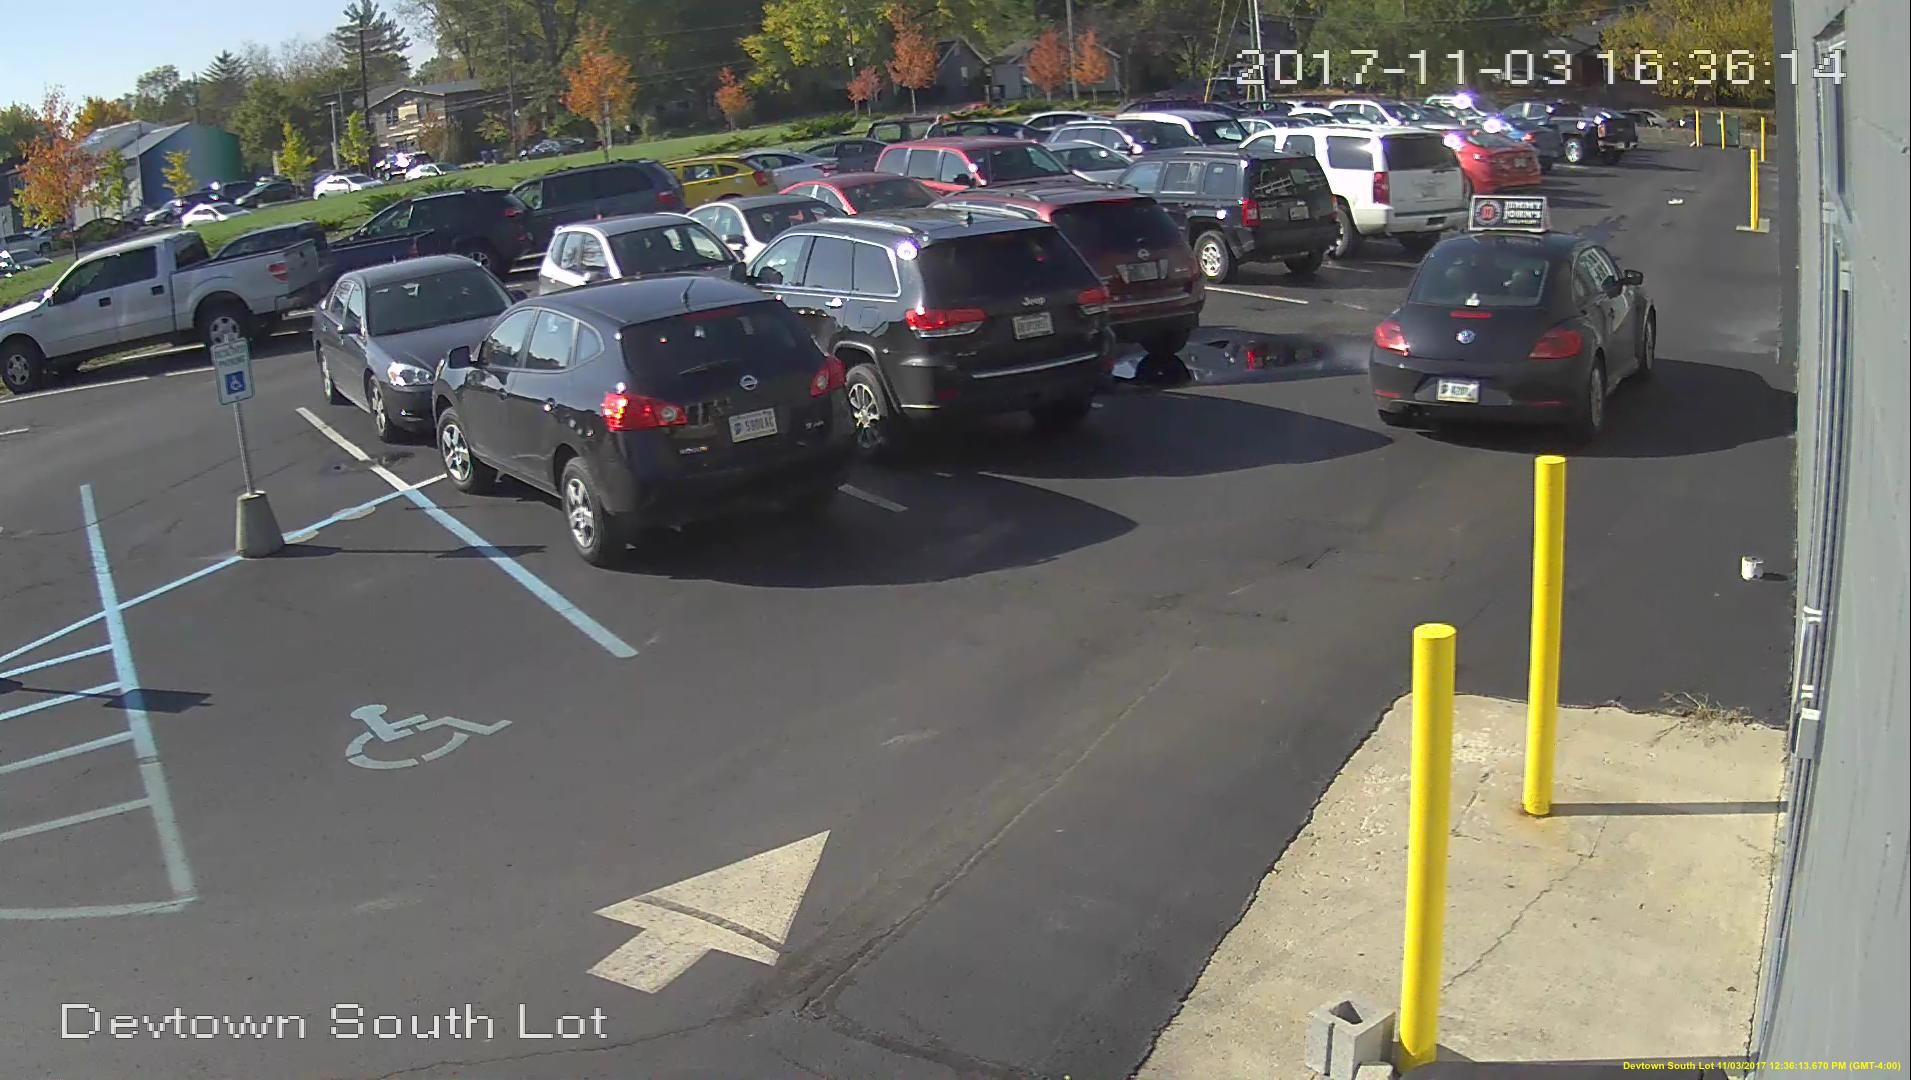jimmy_johns: (1466, 193, 1558, 230)
